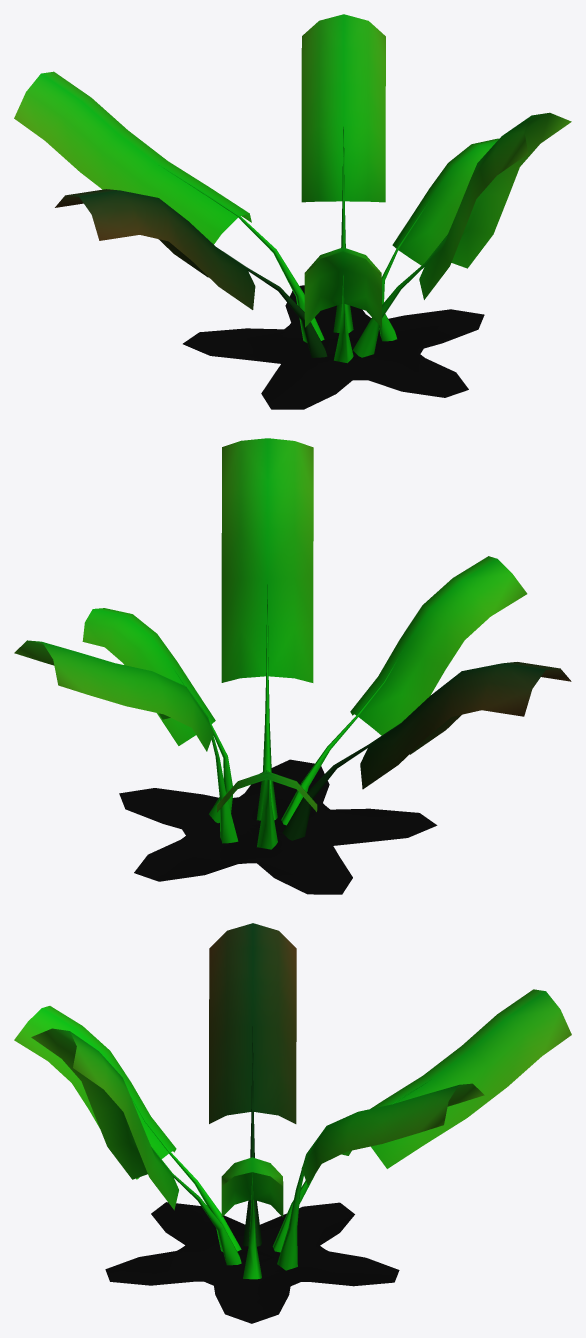
File: Fern 5.fbx
The picture shows the model from 3 angles, top to bottom: view 1: azimuth 30°, elevation 25°; view 2: azimuth 150°, elevation 25°; view 3: azimuth 270°, elevation 25°; orthographic projection. The views are drawn at different scales.
Visible parts, largest first — view 1: _1, _0; view 2: _1, _0; view 3: _1, _0.
Boxes of the visible parts, <box> form: _1: <box>14,14,571,327</box>; _0: <box>164,127,484,409</box>; _1: <box>14,438,571,812</box>; _0: <box>119,584,437,894</box>; _1: <box>14,923,571,1217</box>; _0: <box>105,1026,427,1323</box>.
Size of the model in its own units: 160 by 99.8 by 184.
